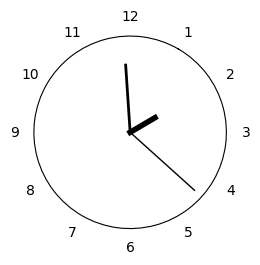12: (123, 10, 139, 22)
circle: (34, 36, 227, 229)
hours: (128, 114, 159, 136)
minutes: (124, 63, 131, 128)
seconds: (132, 134, 195, 190)
